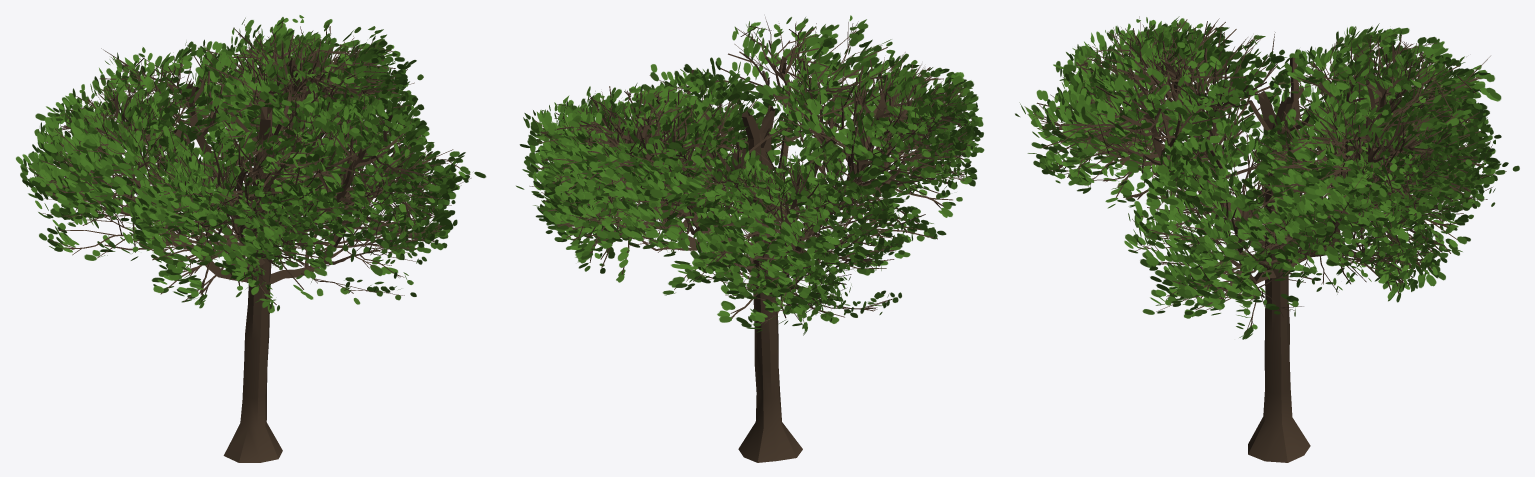
3 views of the same model, side by side, from view 1: azimuth 30°, elevation 25°; view 2: azimuth 150°, elevation 25°; view 3: azimuth 270°, elevation 25° (orthographic). The views are drawn at different scales.
Visible parts, largest first — view 1: oak 01.001_trunk_Mat.001_0.119; view 2: oak 01.001_trunk_Mat.001_0.119; view 3: oak 01.001_trunk_Mat.001_0.119.
Part boxes in pixels (x1,y1,x2,y2): oak 01.001_trunk_Mat.001_0.119: (15,15,486,462); oak 01.001_trunk_Mat.001_0.119: (516,15,984,462); oak 01.001_trunk_Mat.001_0.119: (1015,16,1519,462).
Bounding box in the file's own units: 6.24 × 5.59 × 6.77.
2 materials, 1 textured.
